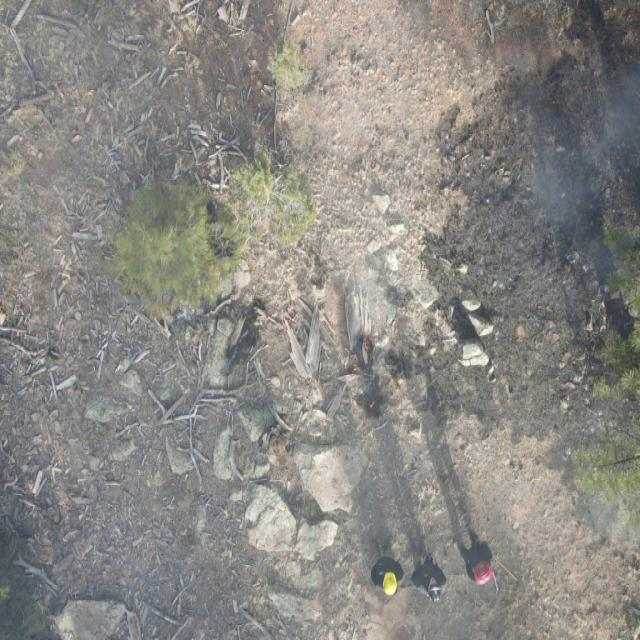fire: (344, 332, 376, 381), (366, 400, 376, 410)
smoke: (0, 0, 640, 640)
